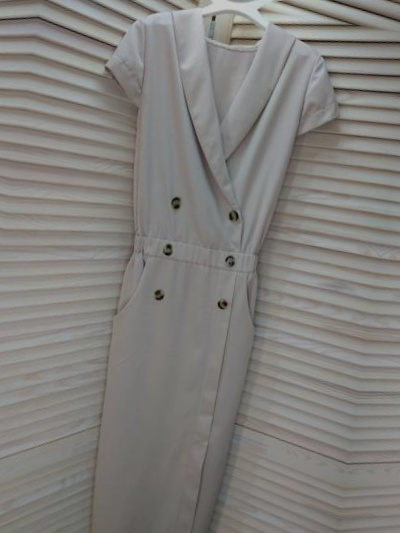Dress: (26, 0, 353, 533), (390, 56, 400, 533), (115, 0, 400, 12)
